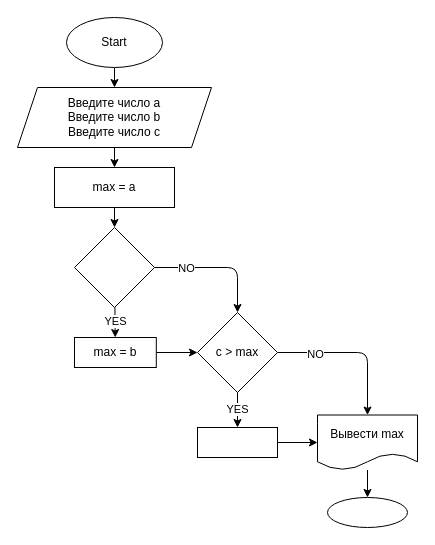
Image size: 435x545. Some labels were removed from this diagram. Here are the shapes that lost their labels. From the top down, the box of each, then its label:
(74, 226, 154, 308): b > max
(196, 426, 278, 458): max = c
(326, 496, 408, 528): End
